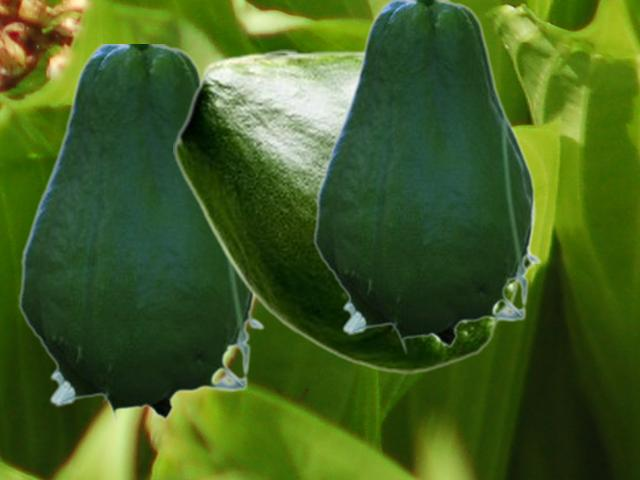sayote: (173, 49, 536, 373), (18, 44, 264, 426), (313, 0, 541, 353)
